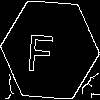F: (25, 25, 56, 73)
